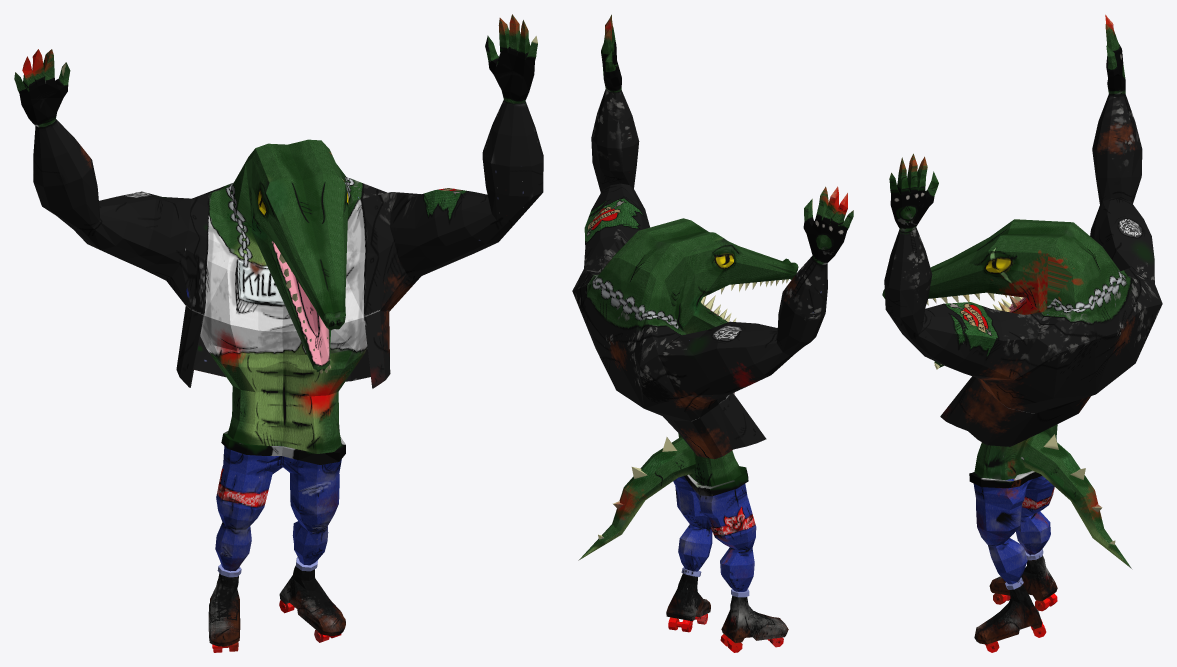
Rendered from cocodrilaBonesSelect_000047.obj.
3 renders of one model, left to right at view 1: azimuth 30°, elevation 25°; view 2: azimuth 150°, elevation 25°; view 3: azimuth 270°, elevation 25°, orthographic. The views are drawn at different scales.
Parts seen in each view (by area): view 1: Crocodile.002_Cylinder.002; view 2: Crocodile.002_Cylinder.002; view 3: Crocodile.002_Cylinder.002.
Part boxes in pixels (x1,y1,x2,y2): Crocodile.002_Cylinder.002: (14, 14, 543, 652); Crocodile.002_Cylinder.002: (572, 14, 853, 652); Crocodile.002_Cylinder.002: (882, 14, 1162, 652).
Bounding box in the file's own units: 6.02 × 8.71 × 3.97.
